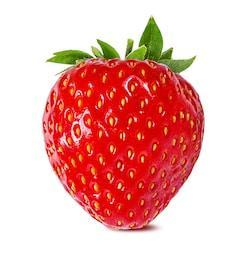Fresa: (38, 52, 210, 234)
